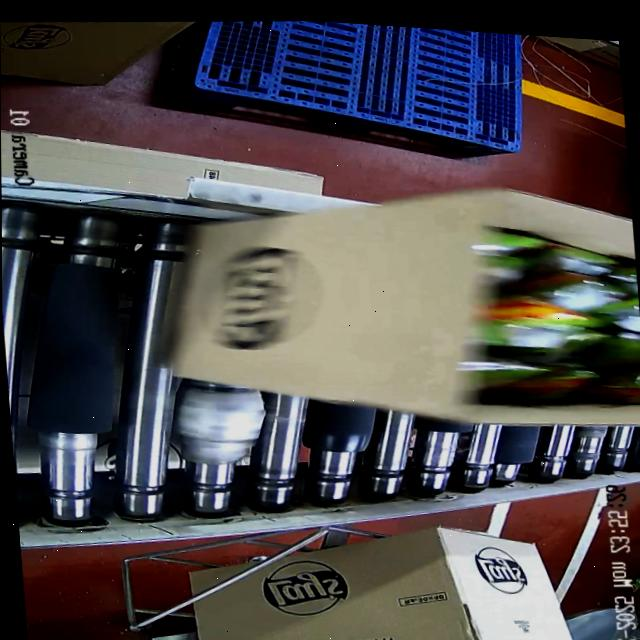YOGURT_HERB: (458, 212, 640, 420)
